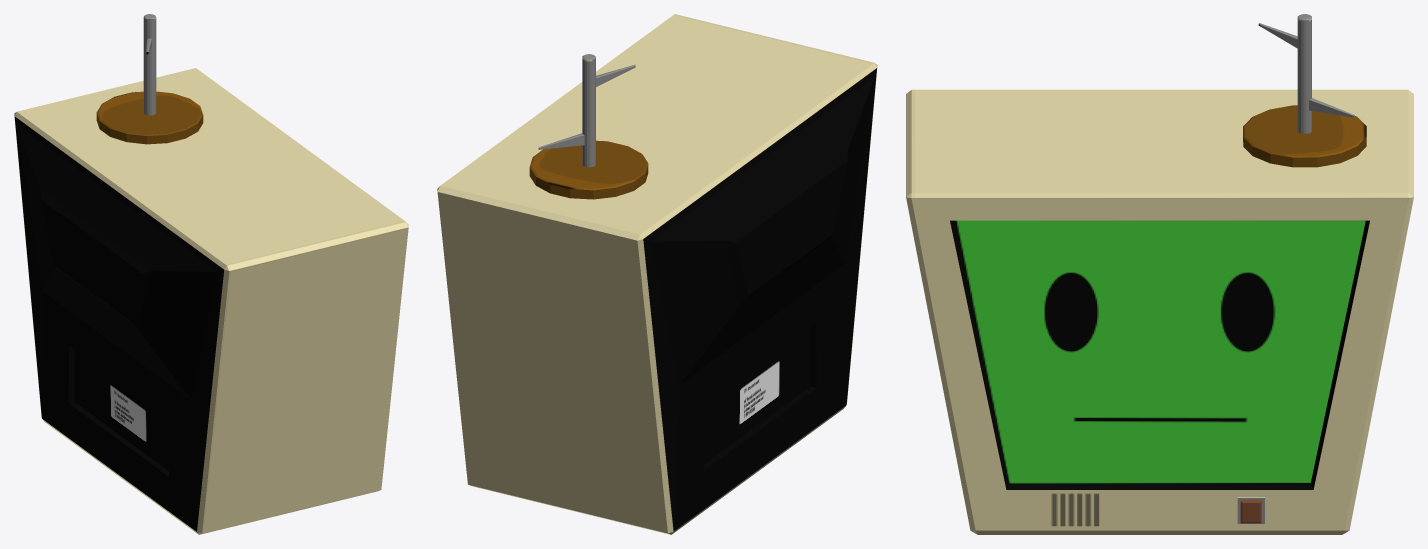
File: assistant.fbx
The picture shows the model from 3 angles, left to right: view 1: azimuth 30°, elevation 25°; view 2: azimuth 150°, elevation 25°; view 3: azimuth 270°, elevation 25°; orthographic projection. The views are drawn at different scales.
Visible parts, largest first — view 1: TV; view 2: TV; view 3: TV.
Part boxes in pixels (x1,y1,x2,y2): TV: (14,14,408,534); TV: (437,14,877,534); TV: (906,14,1413,534).
Bounding box in the file's own units: 28.69 × 50.15 × 49.46.
